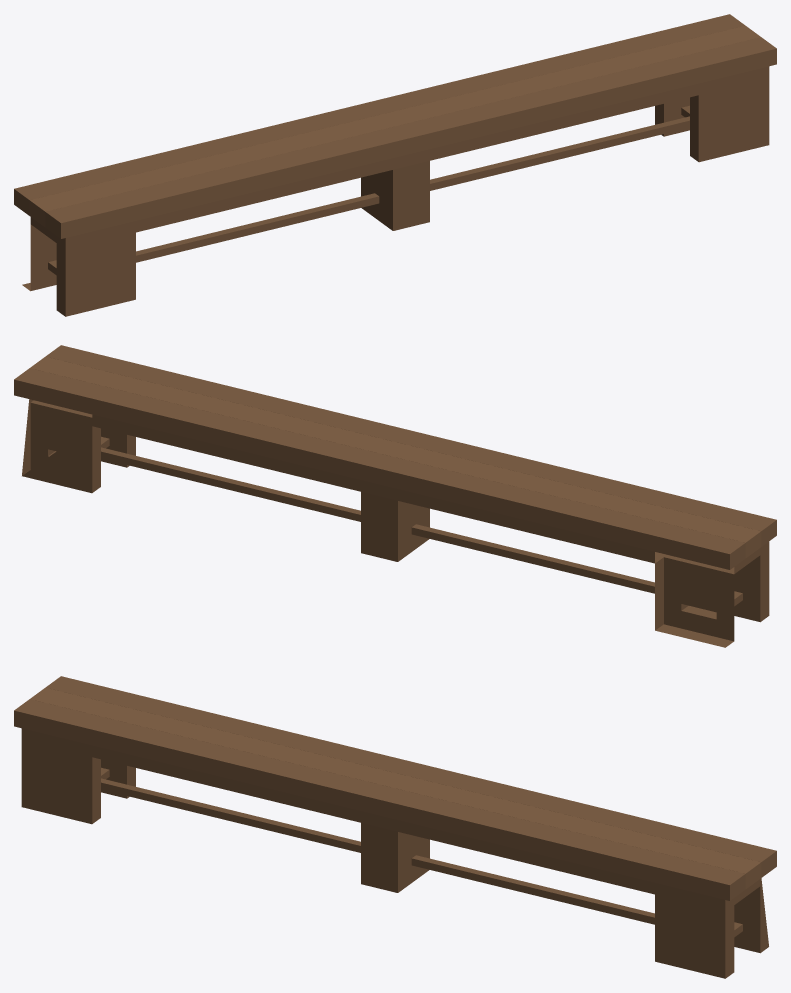
Rendered from inquiry-bench.glb.
3 views of the same model, one above another, from view 1: azimuth 30°, elevation 25°; view 2: azimuth 150°, elevation 25°; view 3: azimuth 330°, elevation 25° (orthographic).
Visible parts, largest first — view 1: structure; view 2: structure; view 3: structure.
Boxes of the visible parts, x1,y1,x2,y2 form: structure: (14, 14, 776, 316); structure: (14, 345, 776, 647); structure: (14, 676, 776, 978).
Size of the model in its own units: 3.5 by 0.45 by 0.3985.
